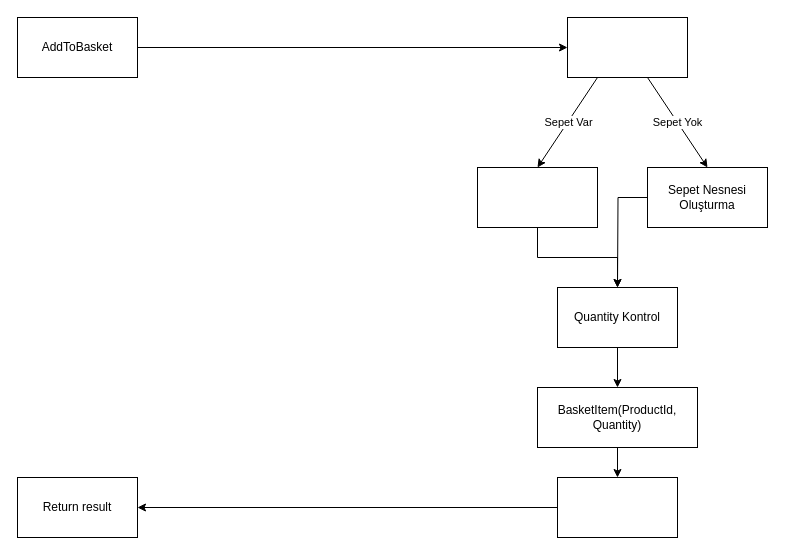
The diagram is 785 pixels wide and 555 high, and some of its shapes have lost their labels. Here are the shapes that lost their labels. From the top down, the box of each, then its label:
(566, 16, 688, 78): GetBasket(SiteId, CustomerId)
(476, 166, 598, 228): Sepeti Cache üzerinden alma
(556, 476, 678, 538): UpdateBasket
